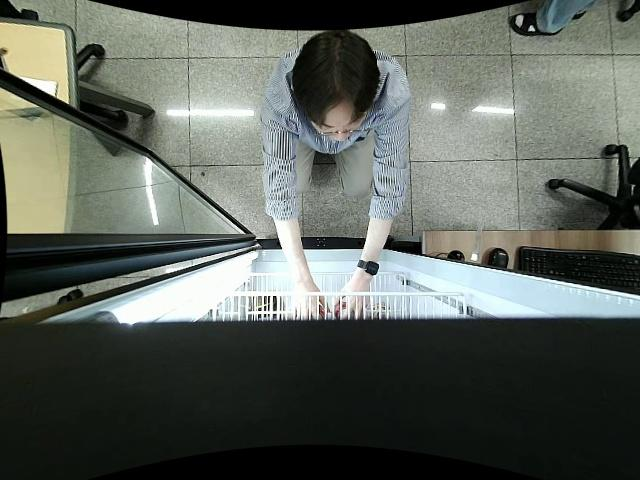00_hand: (289, 282, 327, 323), (333, 286, 371, 323)
